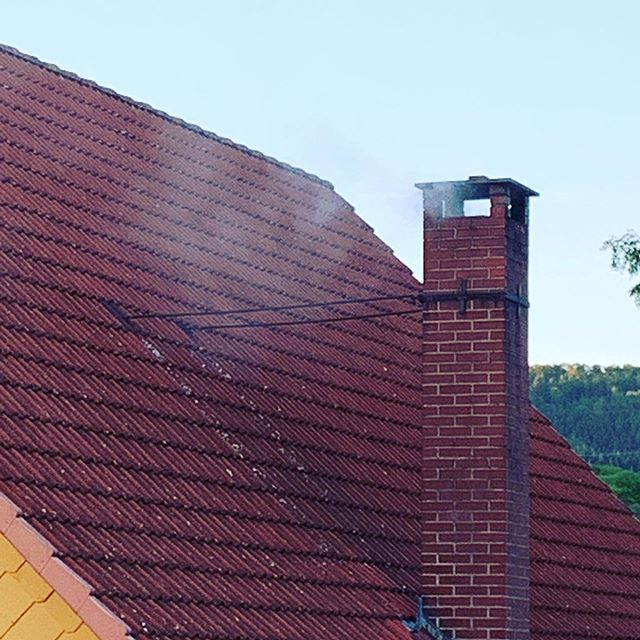chimney: (424, 177, 541, 640)
sky: (38, 5, 640, 323)
